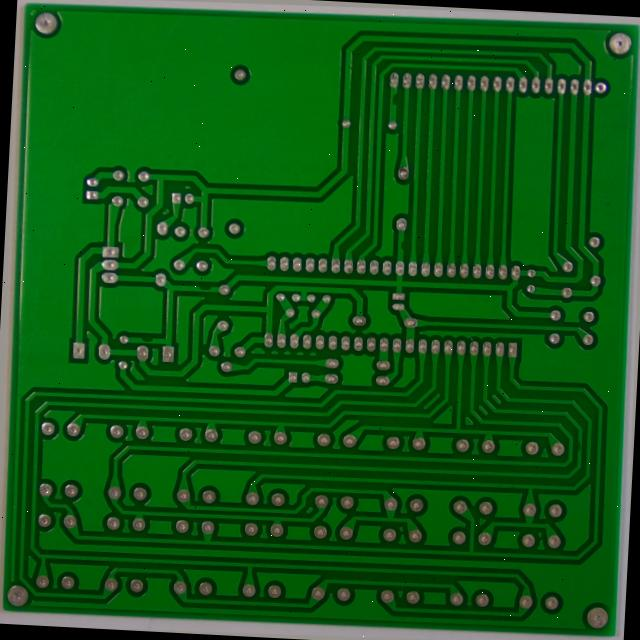mouse_bite: (131, 328, 153, 343), (193, 278, 213, 293), (397, 238, 411, 253), (575, 443, 586, 462), (392, 89, 405, 104)
